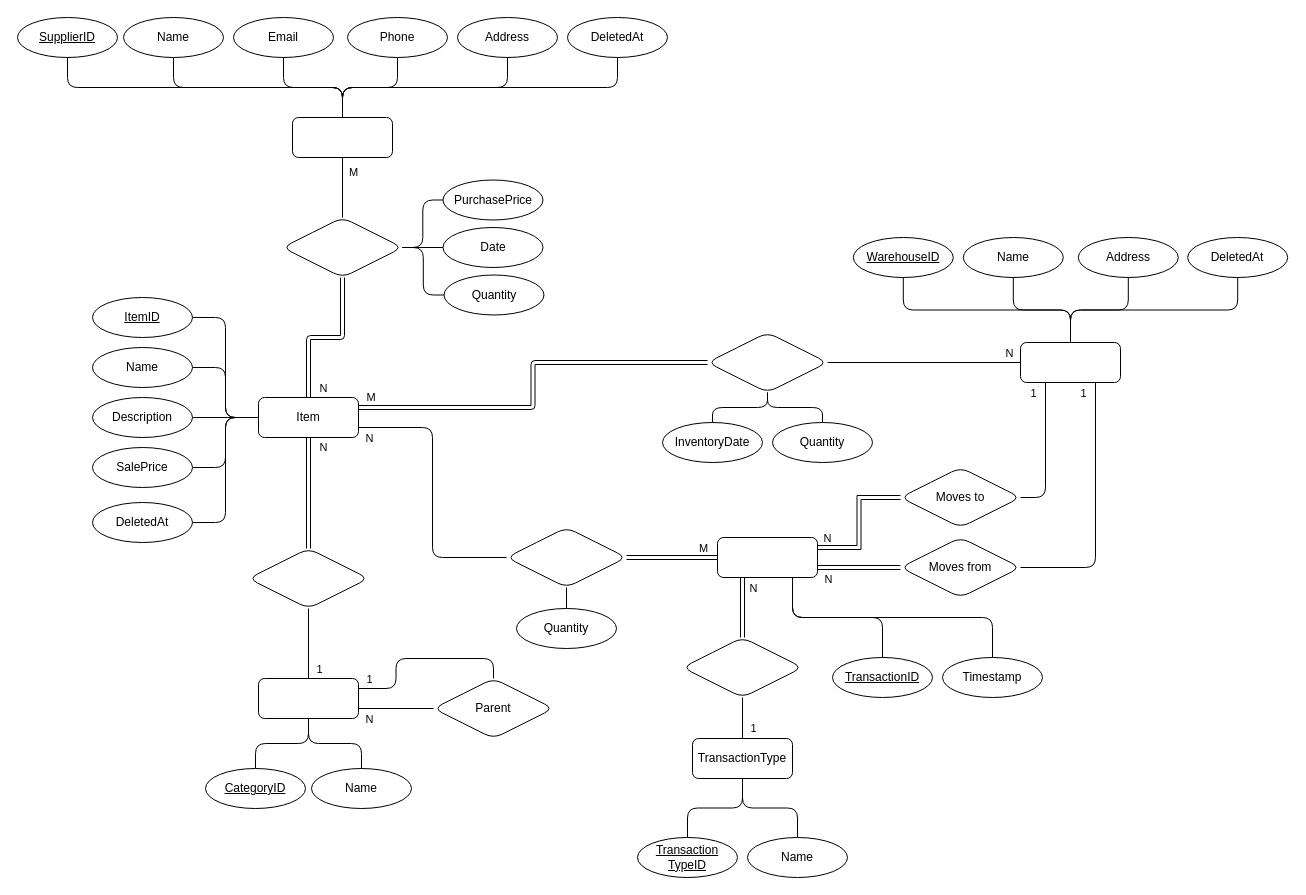
Image size: 1306x895. Some labels were removed from this diagram. Each missing label, with the centre of its shape:
Assigned: the point at 308,578
Category: the point at 308,698
Involves: the point at 566,557
Is of: the point at 742,667
Stored at: the point at 767,362
Supplied by: the point at 342,247
Supplier: the point at 342,137
Transaction: the point at 767,557
Warehouse: the point at 1070,362
